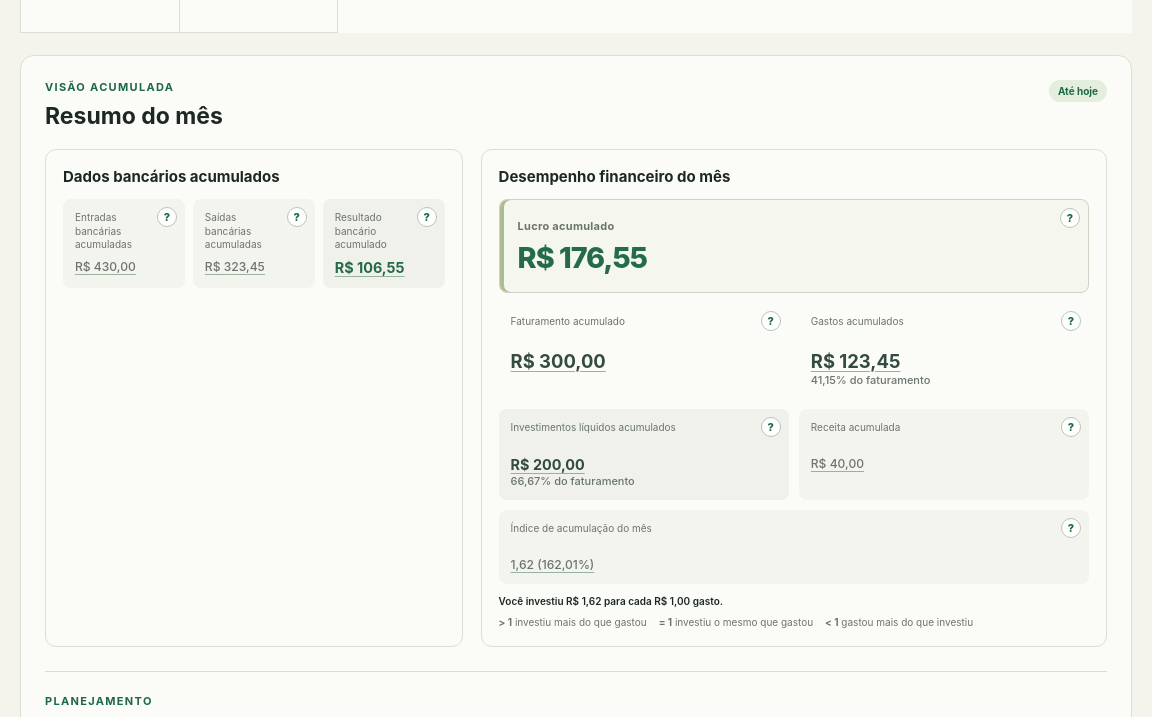
Scenario: detalhamento dos indicadores acumulados › reclassifica entre faturamento e receita sem alterar os detalhamentos bancários
(page scrolled)
Click the button "R$ 300,00": {"x": 558, "y": 361} [507, 346, 610, 376]
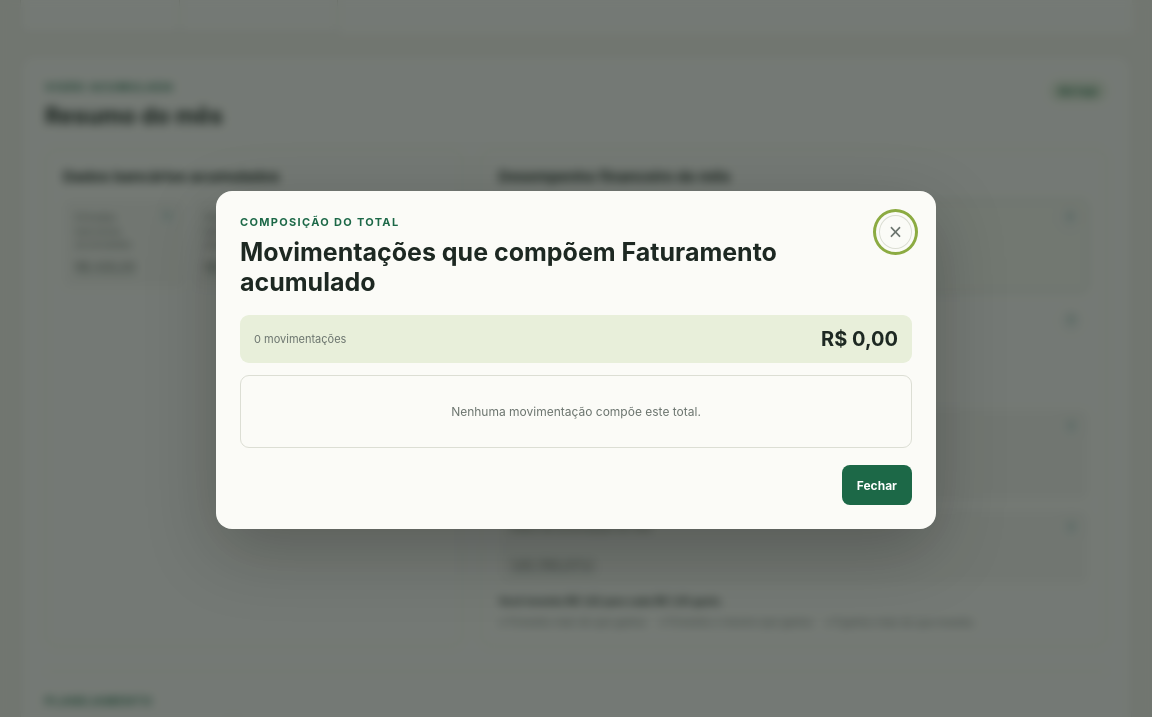
Expected: the text "R$ 0,00" is shown, [821, 327, 898, 351]
